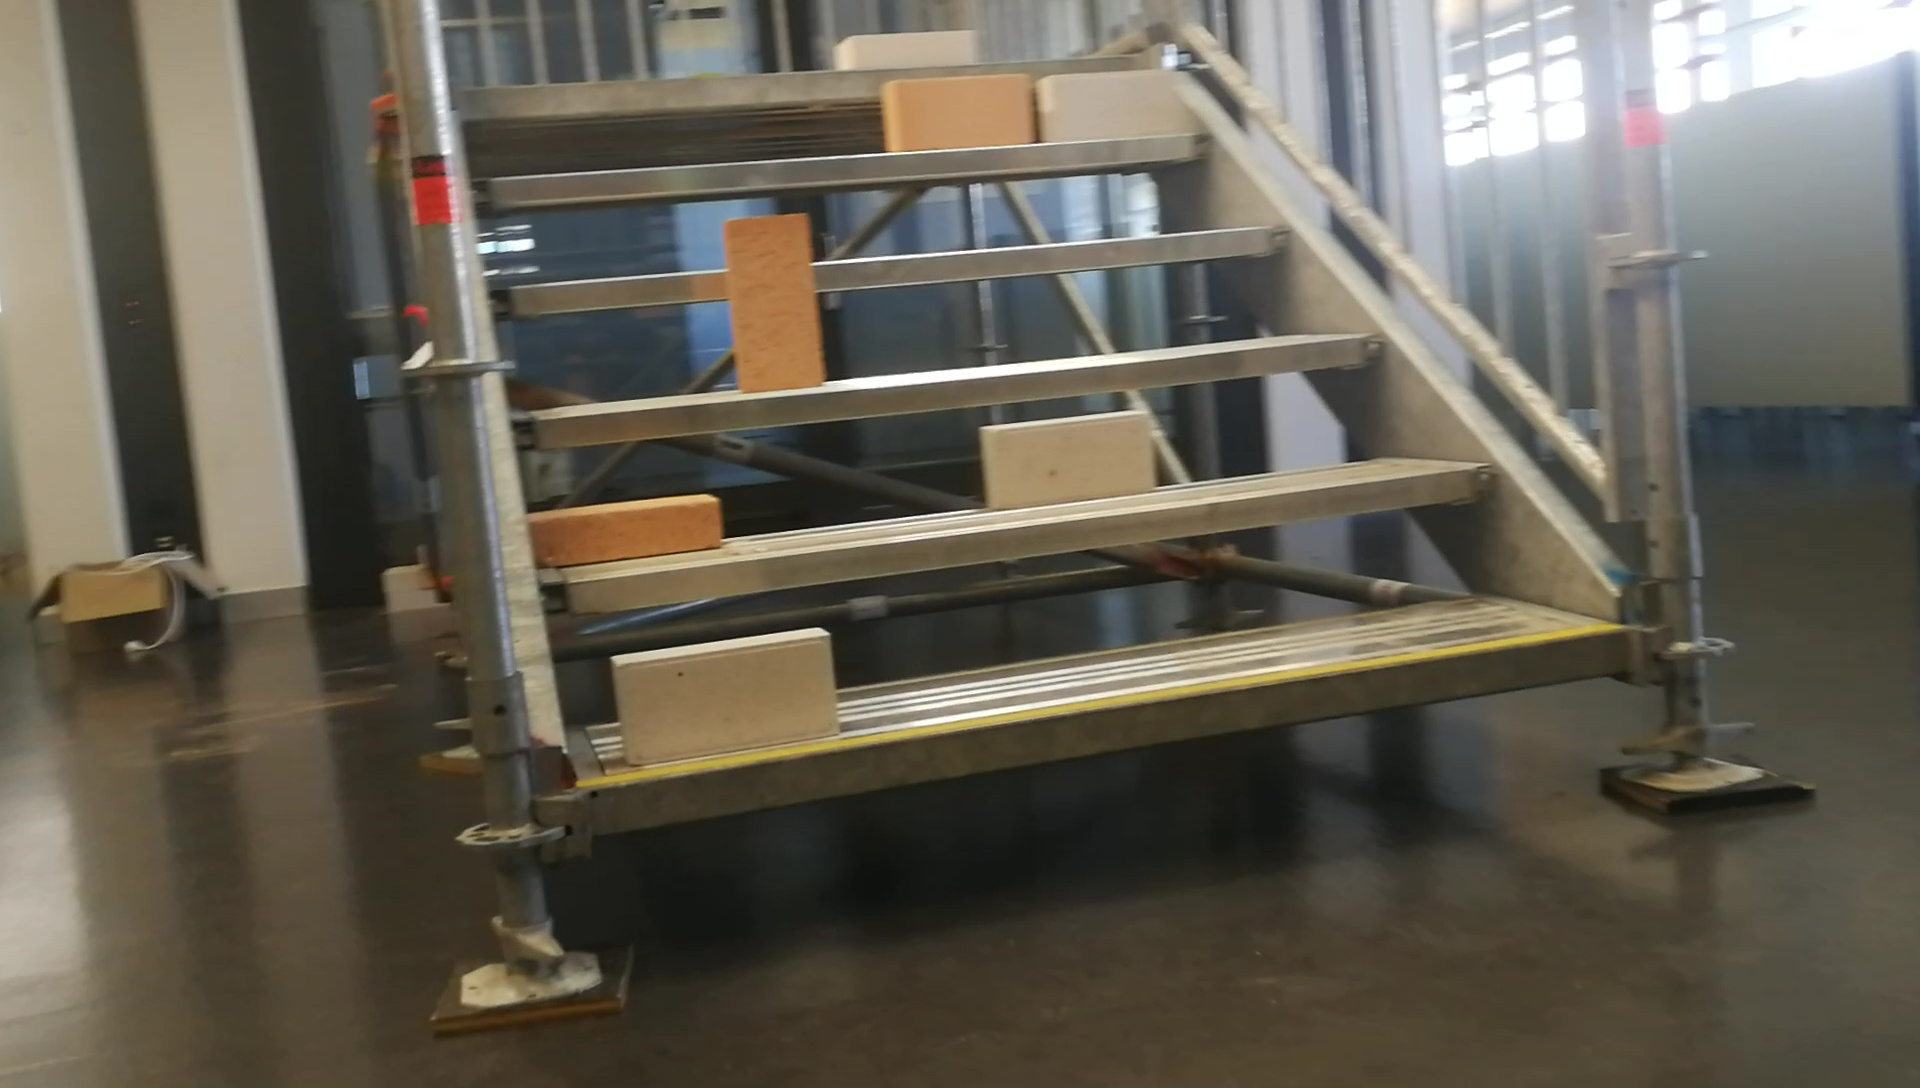brick: (612, 625, 833, 762), (985, 410, 1153, 510), (727, 214, 818, 393), (527, 495, 720, 563), (885, 76, 1025, 150), (1043, 70, 1178, 137), (833, 28, 975, 66)
edge: (580, 626, 1622, 835), (535, 460, 1490, 607), (510, 334, 1385, 444), (492, 228, 1292, 315), (477, 133, 1212, 204), (460, 62, 1172, 111)
stairs: (422, 8, 1811, 1033)
steps: (454, 17, 1643, 859)
